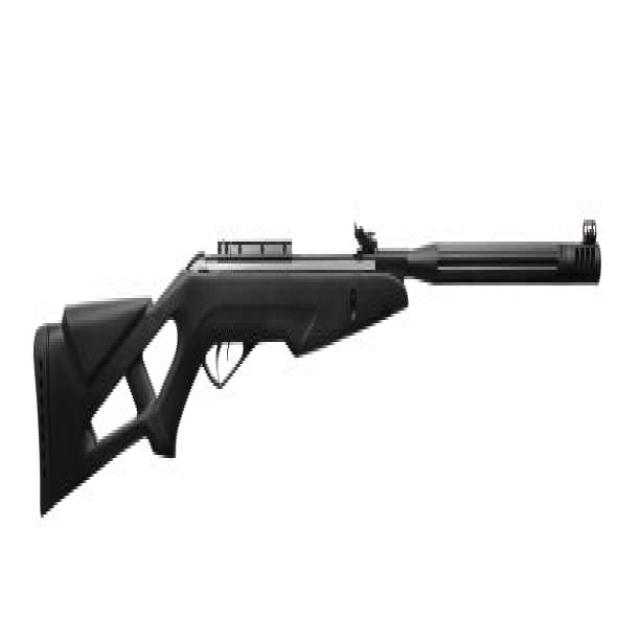rifle: (31, 211, 607, 549)
